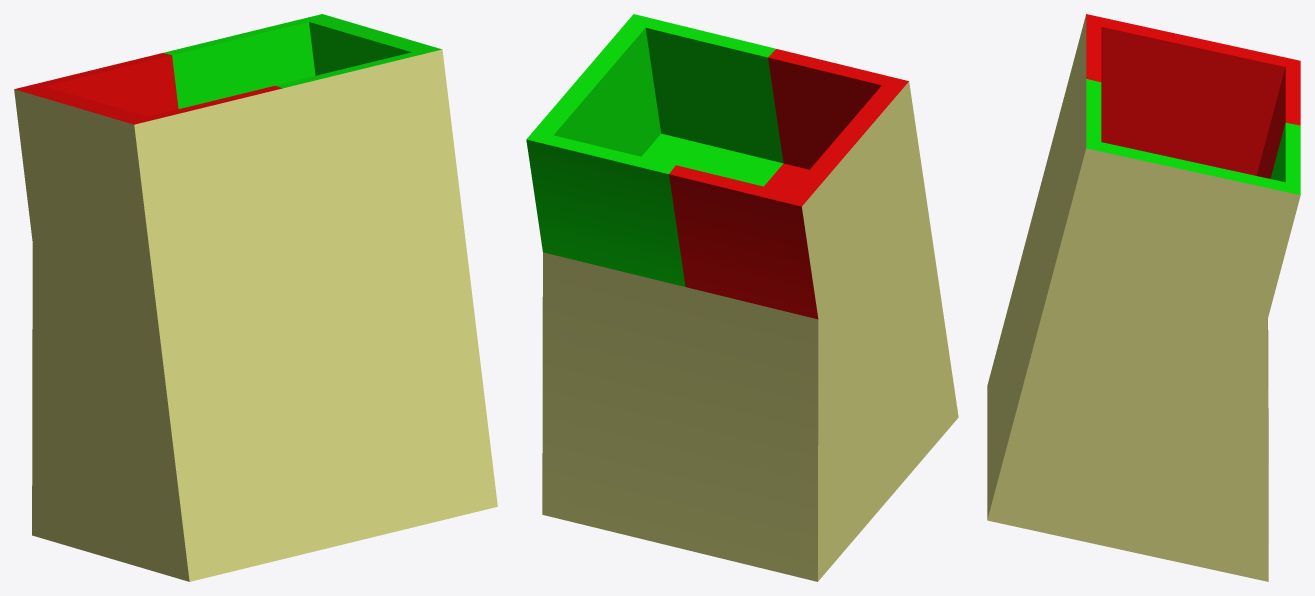
Rendered from kirmizi_yesil_kutu.fbx.
3 renders of one model, left to right at view 1: azimuth 30°, elevation 25°; view 2: azimuth 150°, elevation 25°; view 3: azimuth 270°, elevation 25°, orthographic. The views are drawn at different scales.
Parts seen in each view (by area): view 1: pCube12; view 2: pCube12; view 3: pCube12.
Part boxes in pixels (x1,y1,x2,y2): pCube12: (14, 14, 497, 581); pCube12: (526, 14, 958, 581); pCube12: (987, 14, 1300, 581).
Size of the model in its own units: 4.33 by 6.51 by 4.27.
